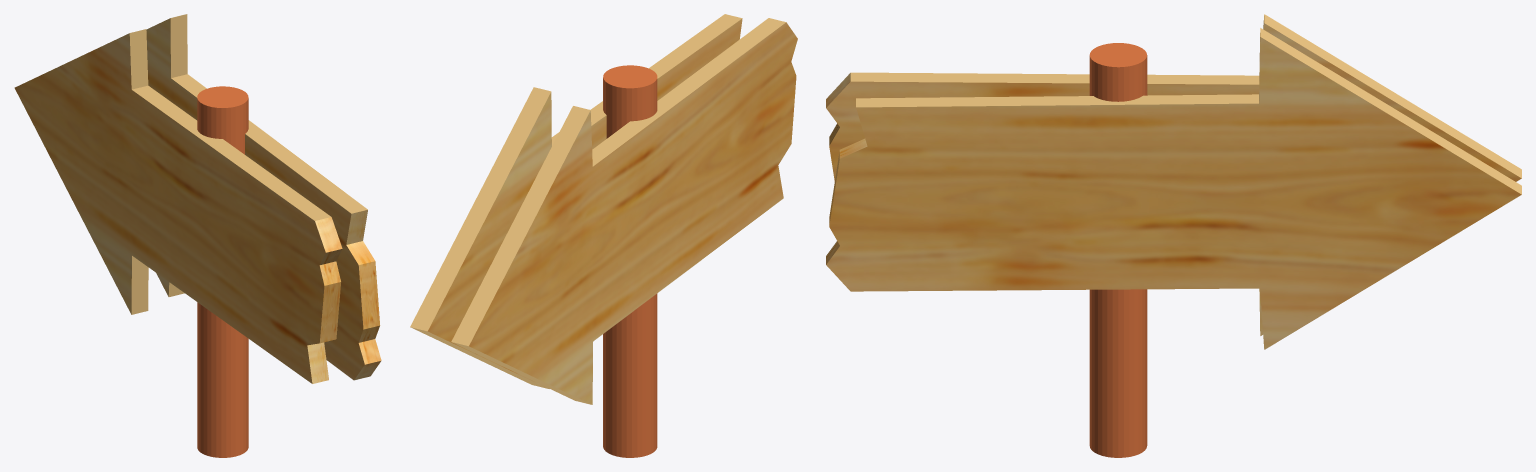
File: Arrow.glb
3 renders of one model, left to right at view 1: azimuth 30°, elevation 25°; view 2: azimuth 150°, elevation 25°; view 3: azimuth 270°, elevation 25°, orthographic. The views are drawn at different scales.
Visible parts, largest first — view 1: 円柱; view 2: 円柱; view 3: 円柱.
Part boxes in pixels (box(x1,y1,x2,y2)): 円柱: box(14, 14, 381, 457); 円柱: box(410, 14, 797, 457); 円柱: box(826, 14, 1521, 457).
Size of the model in its own units: 0.1 by 0.6514 by 0.9682.
3 materials, 2 textured.
